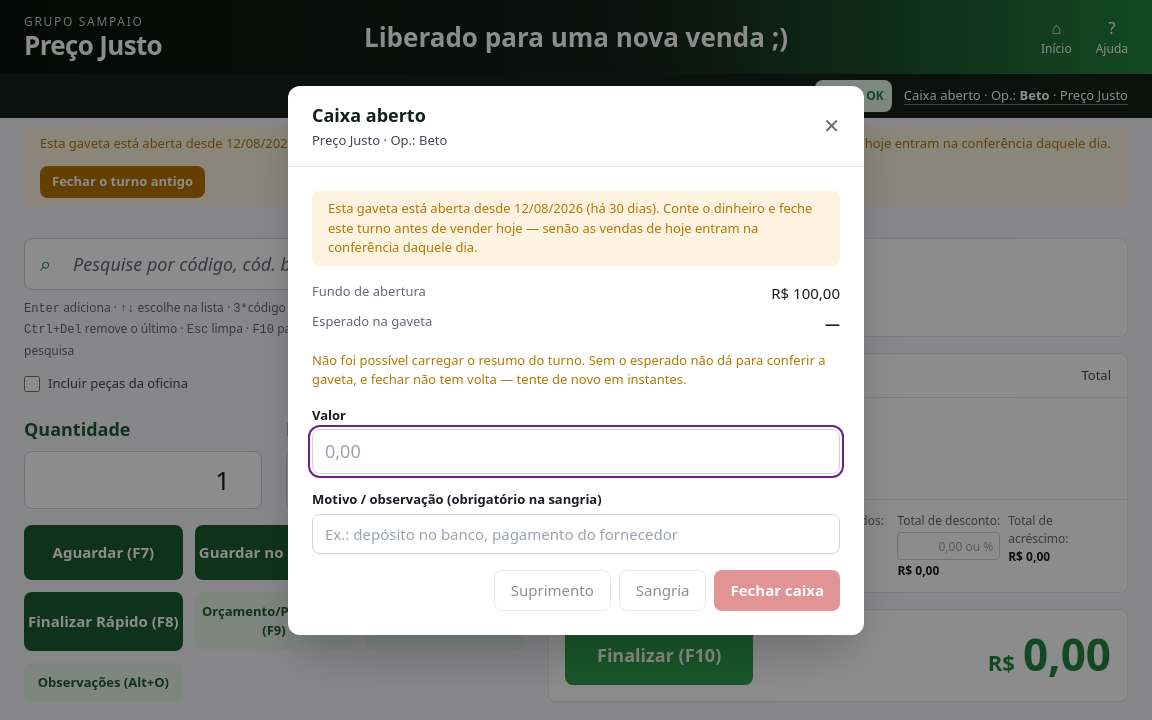
Test: a gaveta esquecida de outro dia (GAP-PRD-131) › vira faixa com a data e os dias — e o diálogo sobe na entrada para fechar
Expected: the message with test id "gaveta-de-outro-dia" shows "12/08/2026 (há 30 dias)", [328,199,812,256]
Click the button named "fechar".
click(832, 126)  # box [823,110,840,142]
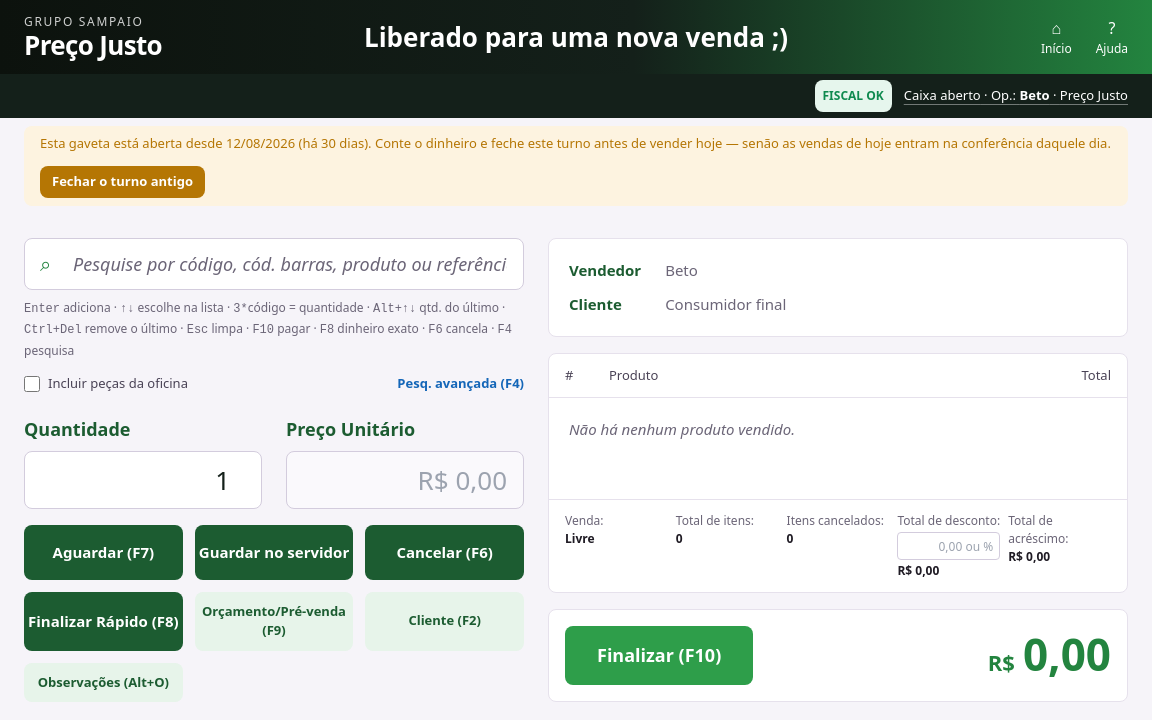
Expected: the message with test id "gaveta-de-outro-dia" shows "aberta desde 12/08/2026", [40,134,1111,152]
Click the button "Fechar o turno antigo".
click(122, 182)  # box [40,166,205,198]
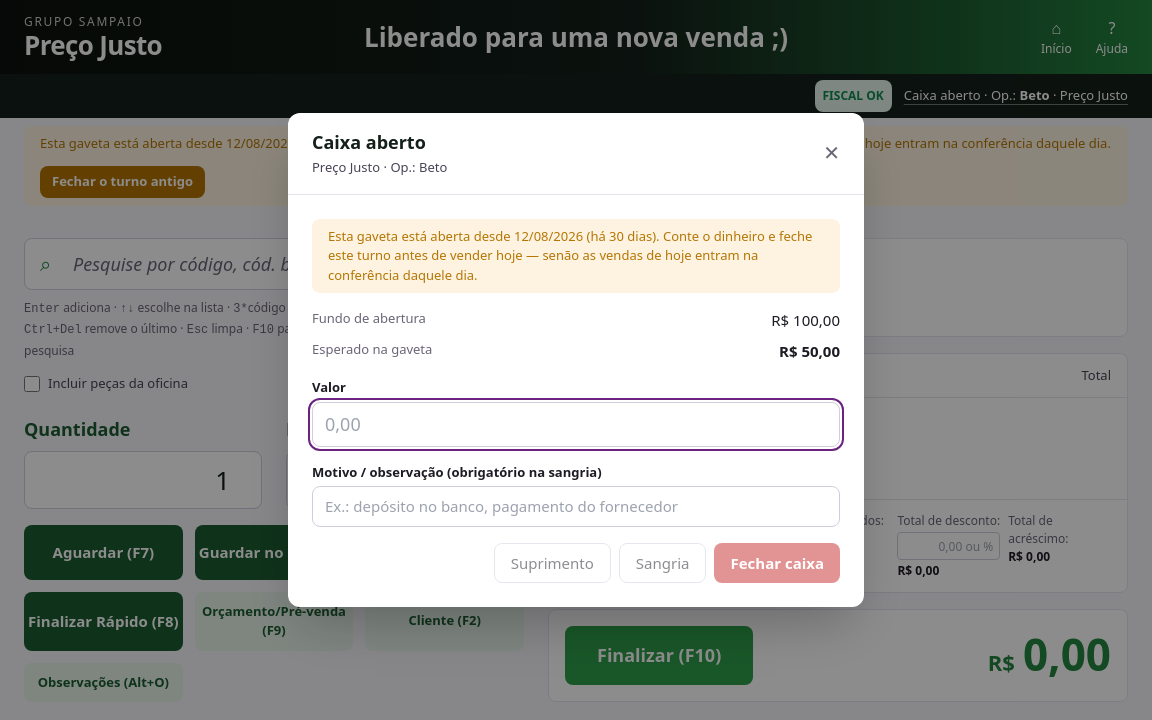
Expected: the dialog with test id "caixa-pdv" is shown
